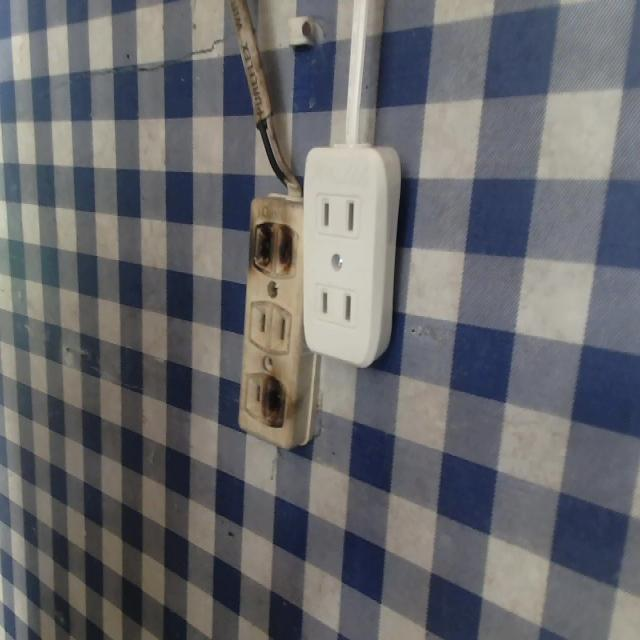-: (243, 219, 301, 280), (256, 372, 294, 429)
